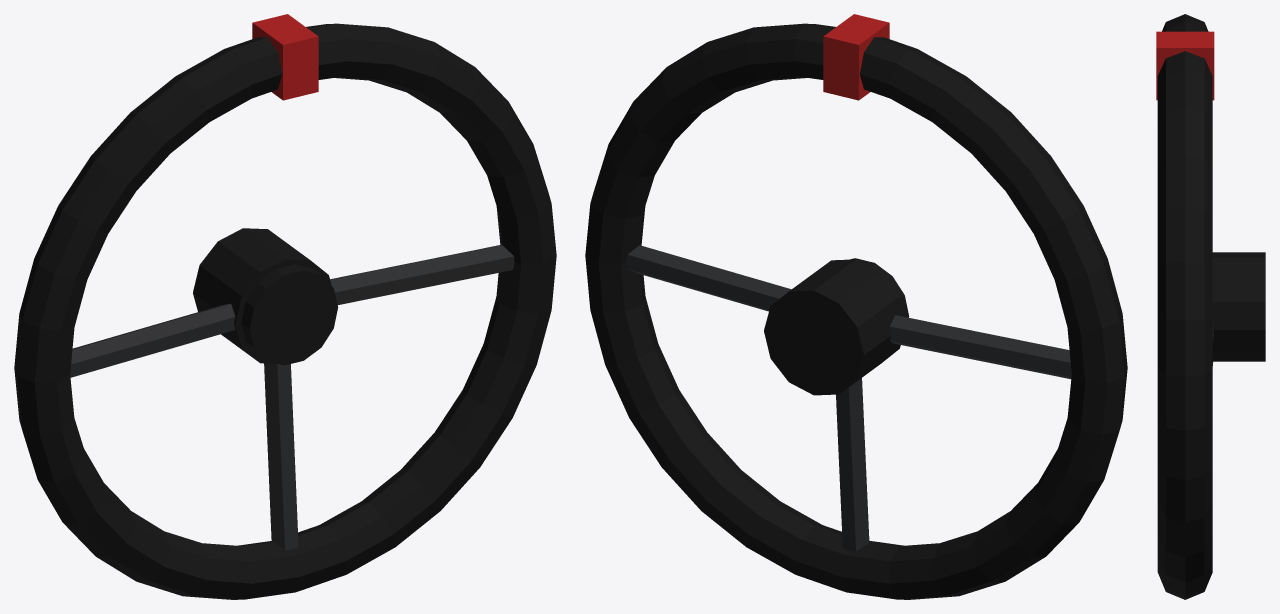
Rendered from wheel_sport.glb.
The picture shows the model from 3 angles, left to right: view 1: azimuth 30°, elevation 25°; view 2: azimuth 150°, elevation 25°; view 3: azimuth 270°, elevation 25°; orthographic projection. The views are drawn at different scales.
Visible parts, largest first — view 1: SteeringWheel; view 2: SteeringWheel; view 3: SteeringWheel.
Boxes of the visible parts, x1,y1,x2,y2 form: SteeringWheel: (14,14,556,599); SteeringWheel: (585,14,1127,599); SteeringWheel: (1156,14,1265,599).
Bounding box in the file's own units: 0.364 × 0.365 × 0.068.
